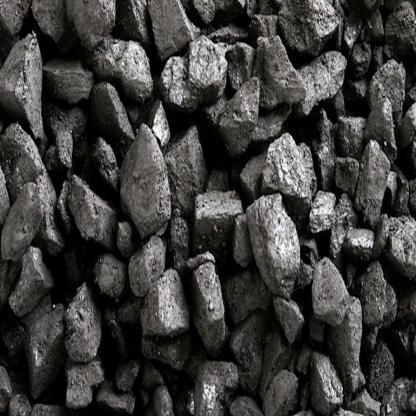Sedimentary_coal: (3, 121, 60, 273), (120, 112, 176, 224), (0, 24, 47, 140), (250, 207, 300, 304), (344, 128, 394, 221), (287, 46, 350, 118), (53, 273, 102, 364), (99, 33, 156, 104), (146, 261, 188, 355), (265, 124, 315, 200), (196, 236, 232, 339), (67, 169, 111, 251), (280, 2, 344, 58), (97, 78, 140, 147), (188, 30, 230, 100), (44, 58, 93, 115), (68, 4, 119, 54), (310, 257, 352, 316)
